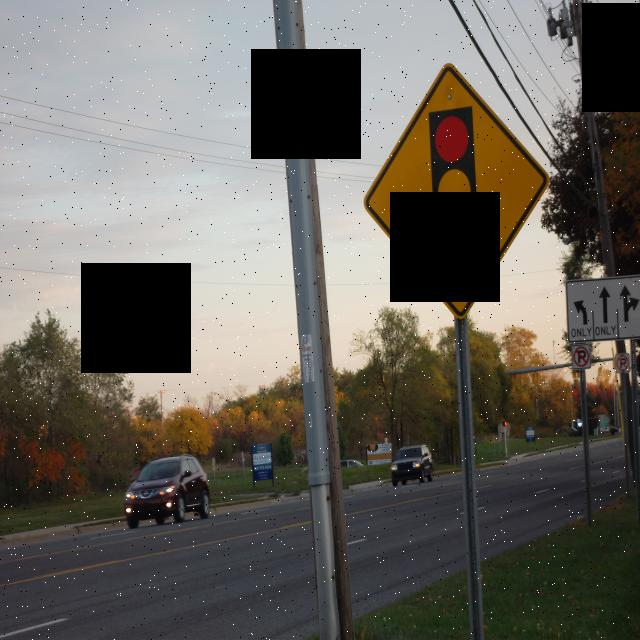regulatory: (567, 277, 640, 342), (572, 344, 591, 369), (615, 353, 630, 374)
warning: (361, 63, 548, 323)
